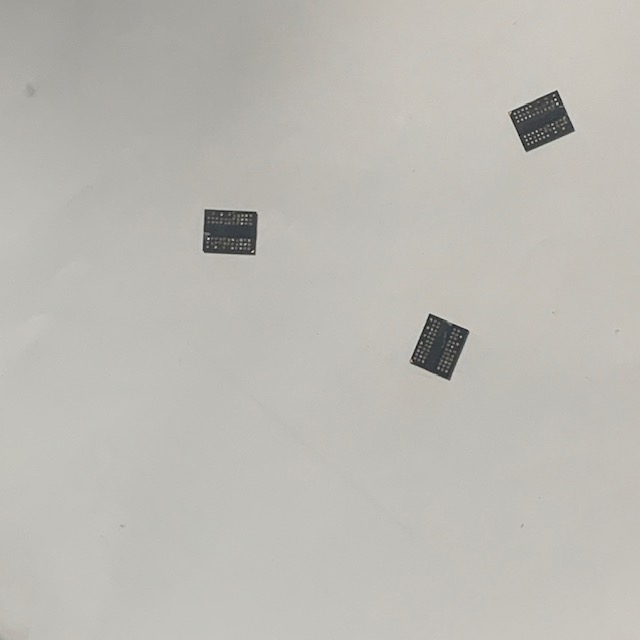IC: (506, 86, 578, 155), (408, 311, 472, 384), (200, 206, 259, 259)
